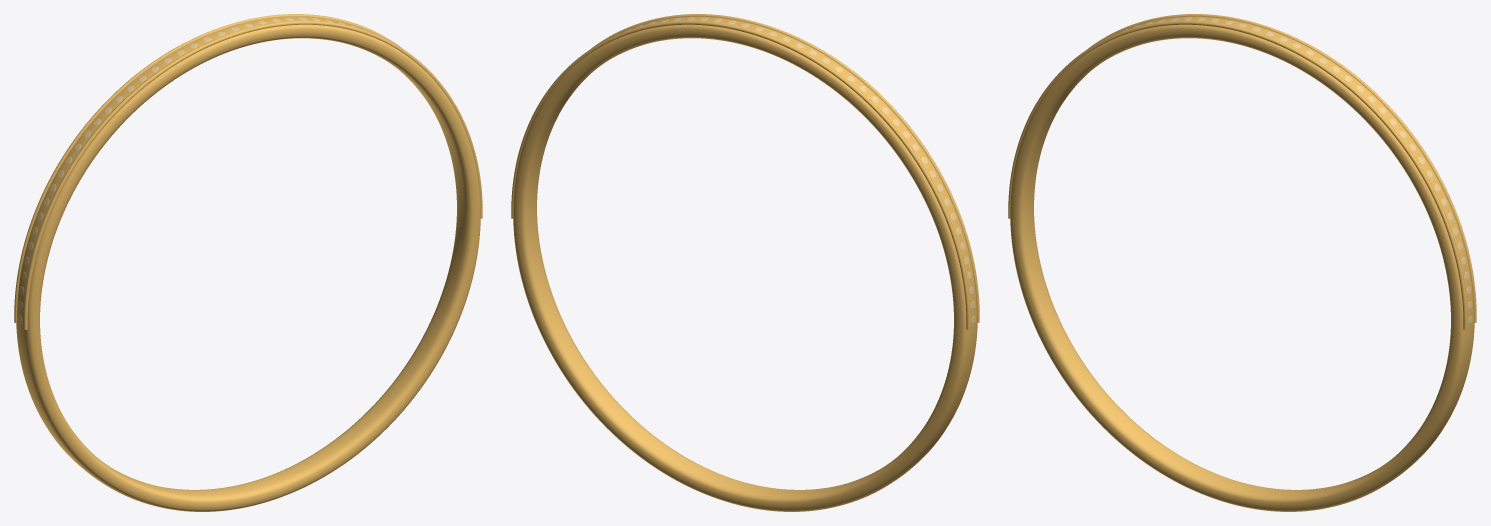
The model's file is diamond-bangle.glb.
3 renders of one model, left to right at view 1: azimuth 30°, elevation 25°; view 2: azimuth 150°, elevation 25°; view 3: azimuth 330°, elevation 25°, orthographic.
Parts seen in each view (by area): view 1: metal, diamond; view 2: metal, diamond; view 3: metal, diamond.
Part boxes in pixels (x1,y1,x2,y2): metal: [14, 14, 482, 511]; diamond: [18, 17, 376, 323]; metal: [511, 14, 979, 511]; diamond: [617, 17, 975, 323]; metal: [1008, 14, 1476, 511]; diamond: [1114, 17, 1472, 323].
Bounding box in the file's own units: 7.12 × 7.1 × 0.4.
